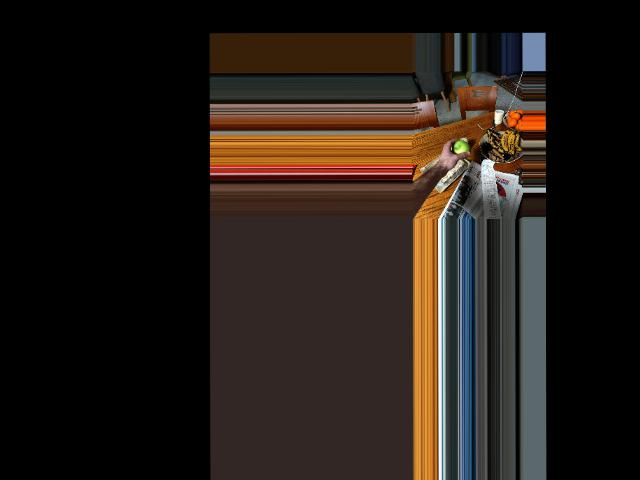apple: (451, 139, 470, 159)
